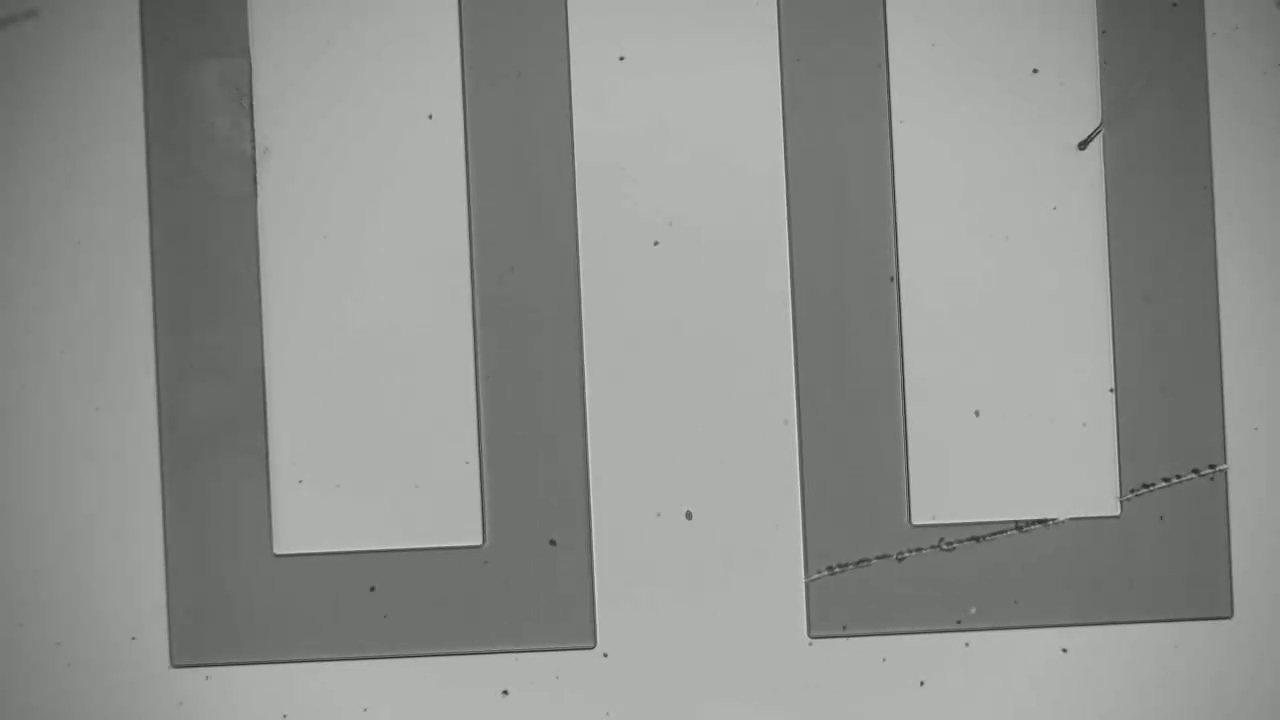scratch: (808, 464, 1227, 585)
